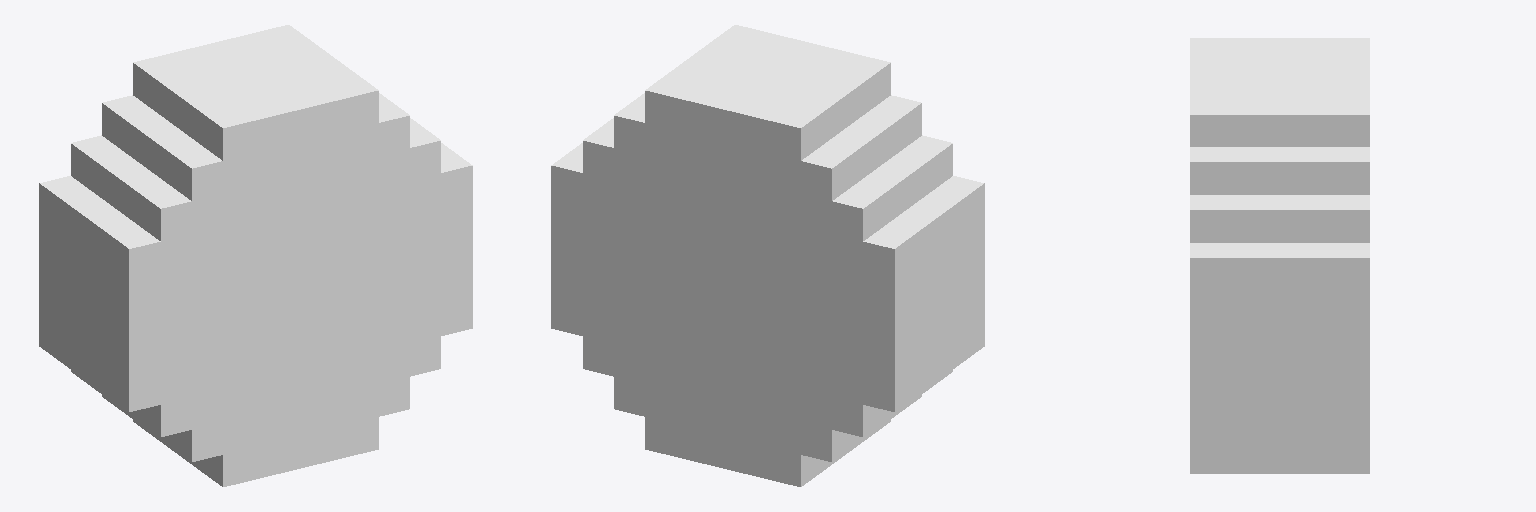
Rendered from robot_body-0.obj.
3 renders of one model, left to right at view 1: azimuth 30°, elevation 25°; view 2: azimuth 150°, elevation 25°; view 3: azimuth 270°, elevation 25°, orthographic.
Parts seen in each view (by area): view 1: object 1; view 2: object 1; view 3: object 1.
Boxes of the visible parts, box(x1,y1,x2,y2) form: object 1: box(39, 25, 472, 486); object 1: box(551, 25, 984, 486); object 1: box(1190, 38, 1369, 473).
Size of the model in its own units: 1.1 by 1.1 by 0.5.